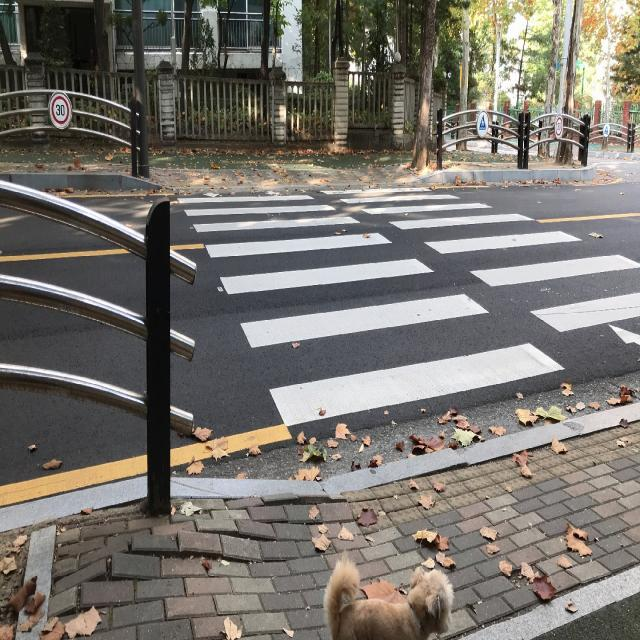횡단보도: (177, 190, 640, 427)
